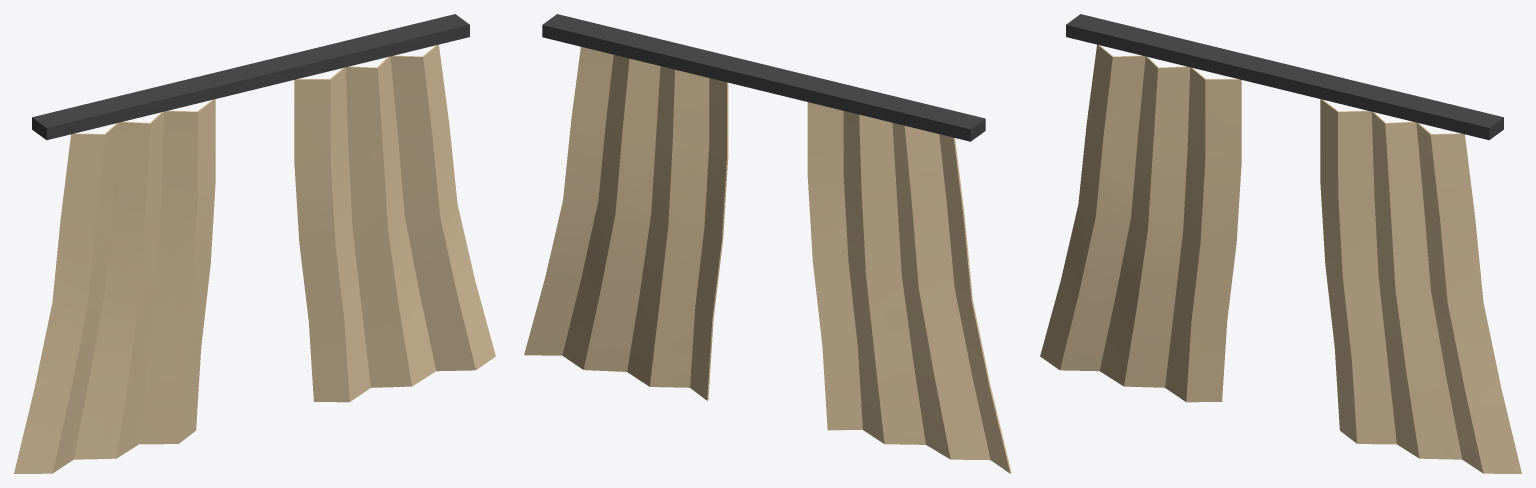
The model's file is Curtain_02_04.fbx.
3 views of the same model, side by side, from view 1: azimuth 30°, elevation 25°; view 2: azimuth 150°, elevation 25°; view 3: azimuth 330°, elevation 25° (orthographic).
Parts seen in each view (by area): view 1: Curtain_02_004; view 2: Curtain_02_004; view 3: Curtain_02_004.
Boxes of the visible parts, x1=… form: Curtain_02_004: x1=14, y1=14, x2=495, y2=473; Curtain_02_004: x1=524, y1=14, x2=1011, y2=473; Curtain_02_004: x1=1040, y1=14, x2=1521, y2=473.
Size of the model in its own units: 1.87 by 1.27 by 0.1387.
